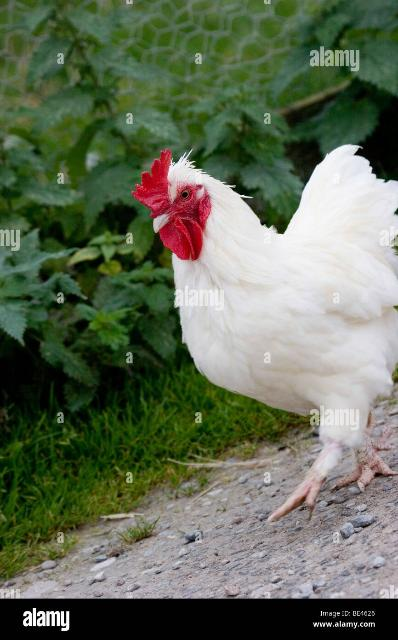Chicken: (131, 144, 398, 522)
